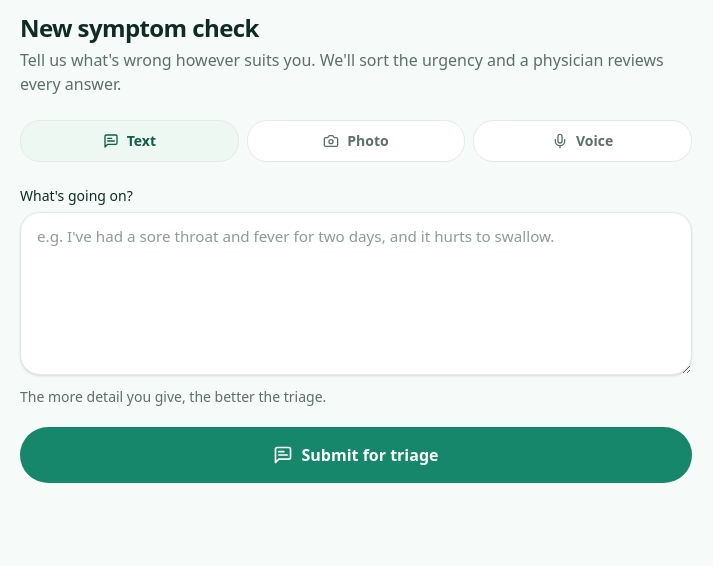
Test: NewSymptomCheck › surfaces an error message when triage fails
The width and height of the screenshot is (713, 566).
Step 1. Type "persistent cough for a week" into the text box labelled "What's going on?" → (356, 293), box [20, 212, 692, 375]
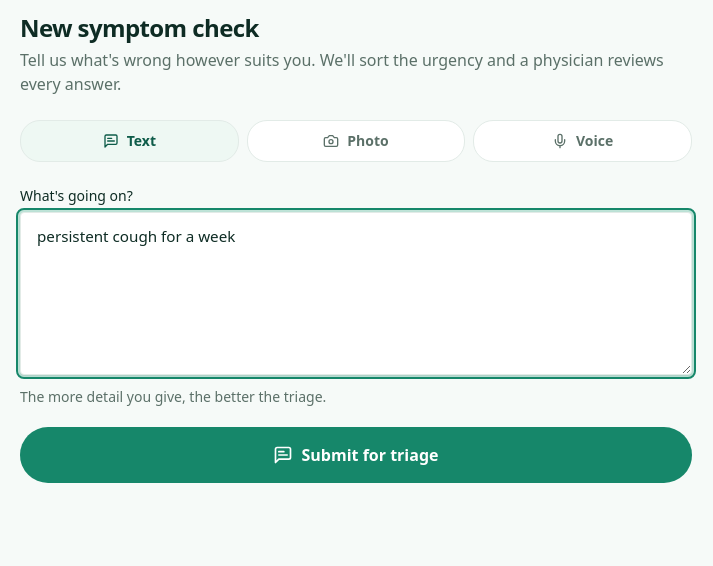
Step 2. Click the button "Submit for triage" → (356, 455), box [20, 427, 692, 483]
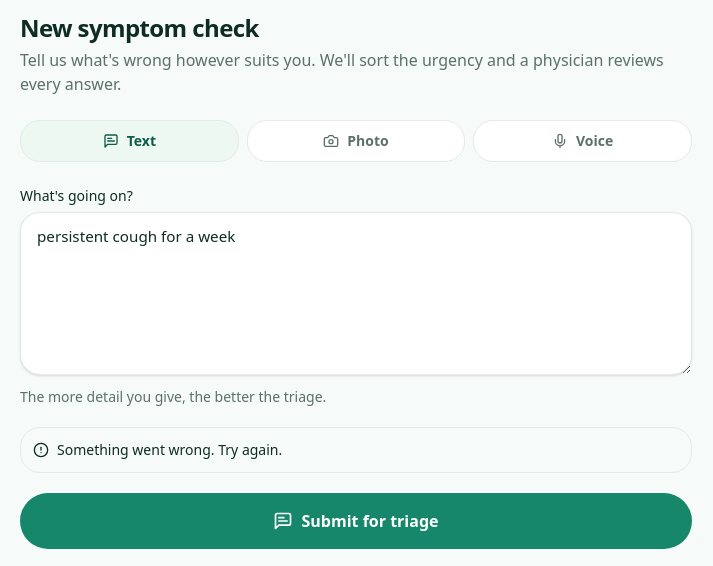
Result: the message "Something went wrong. Try again." is shown at [20, 427, 692, 473]
